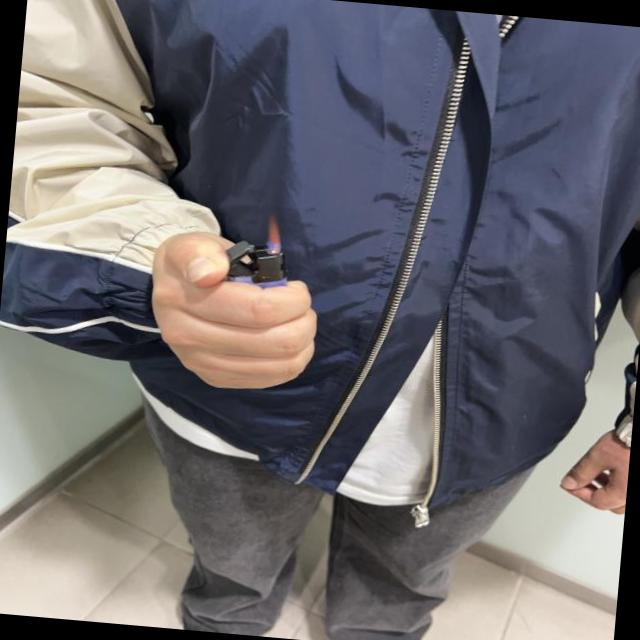Fire: (263, 215, 285, 254)
